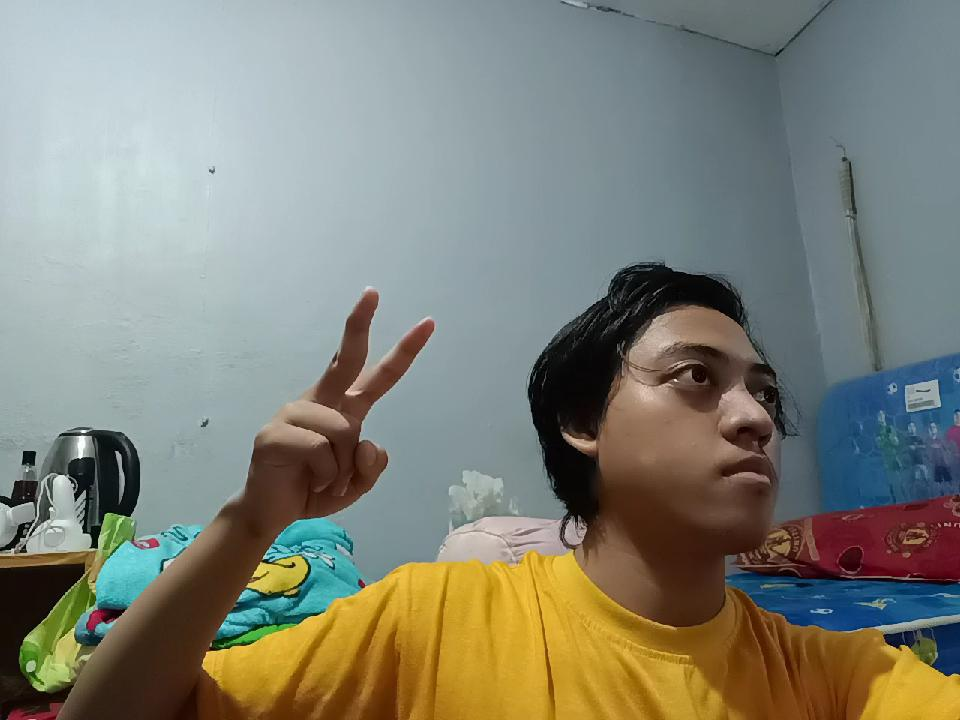scissors: (244, 253, 438, 541)
